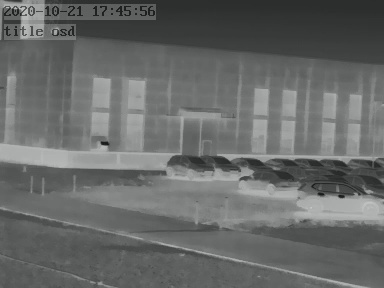vehicle: (298, 180, 382, 213), (238, 168, 303, 194), (164, 153, 213, 179), (205, 153, 242, 177), (231, 154, 270, 172), (261, 155, 297, 170), (347, 155, 380, 171), (316, 155, 347, 171), (297, 155, 328, 170)
